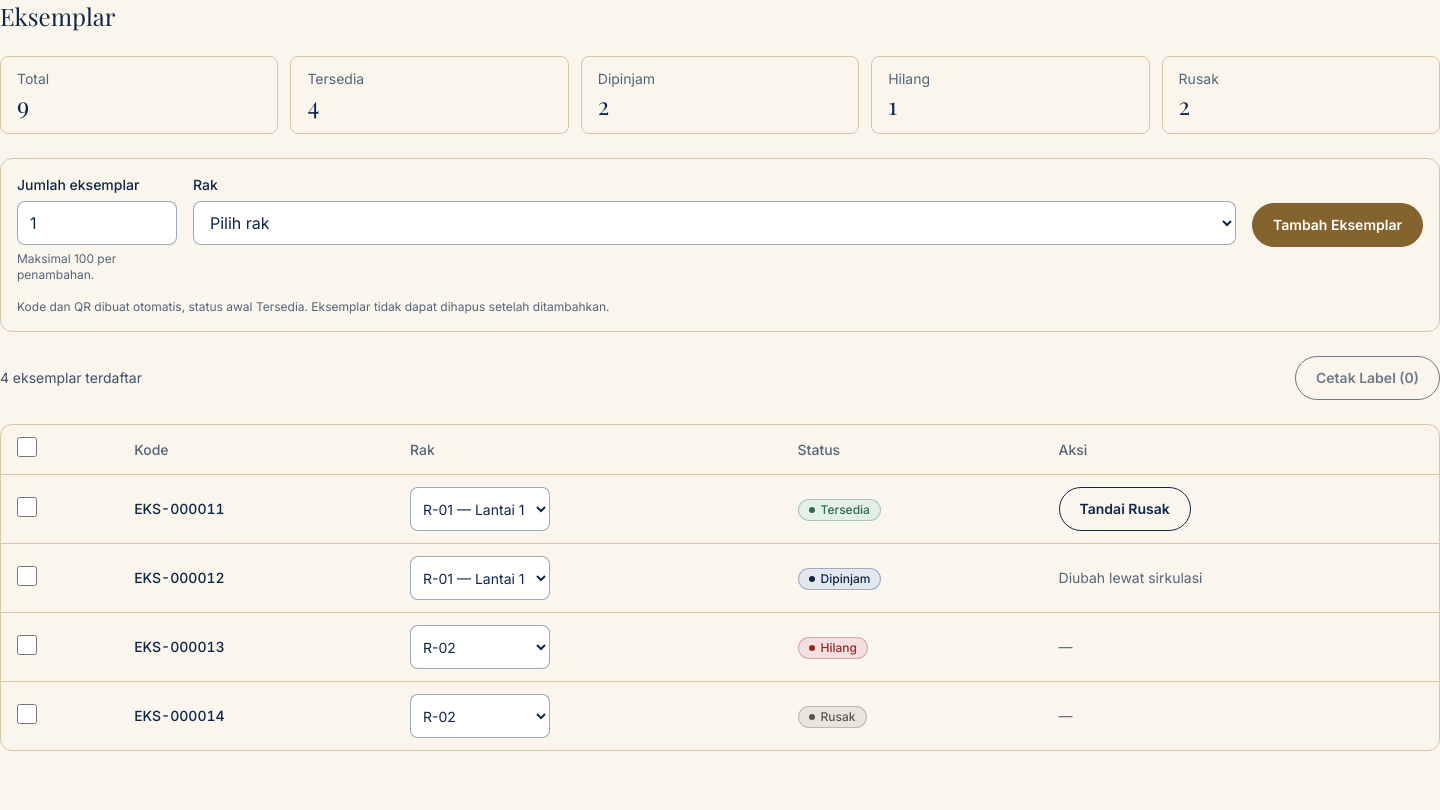
Test: Eksemplar per judul (FR-BKU-04..09, K-02, OQ-20, OQ-21) › FR_BKU_08_penolakan_backend_untuk_eksemplar_yang_berubah_pesan_apa_adanya
The image size is (1440, 810).
Click the button with aria-label "Tandai Rusak EKS-000011": (1125, 509) [1058,487,1191,531]
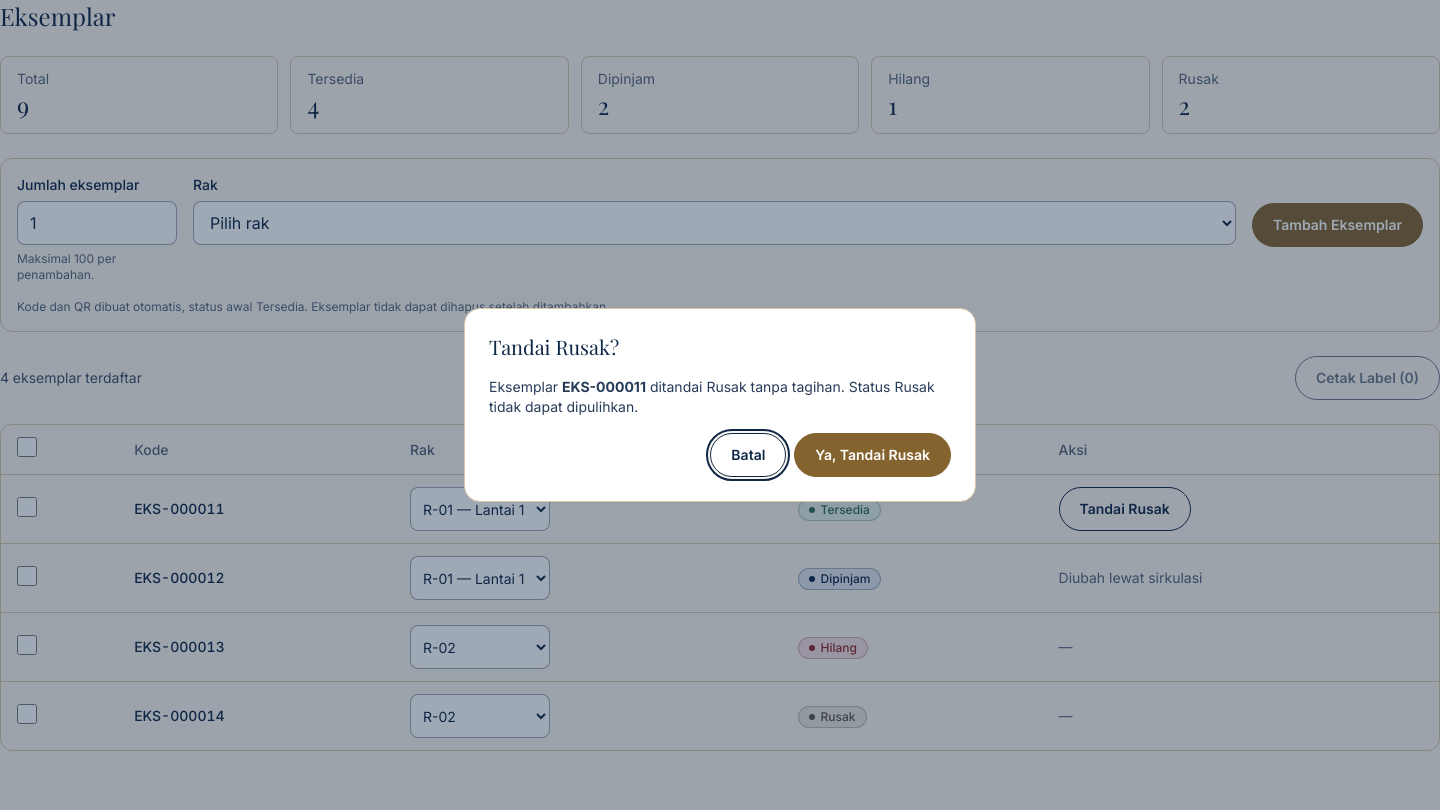
Click the button "Ya, Tandai Rusak": (873, 455) [794,433,951,477]
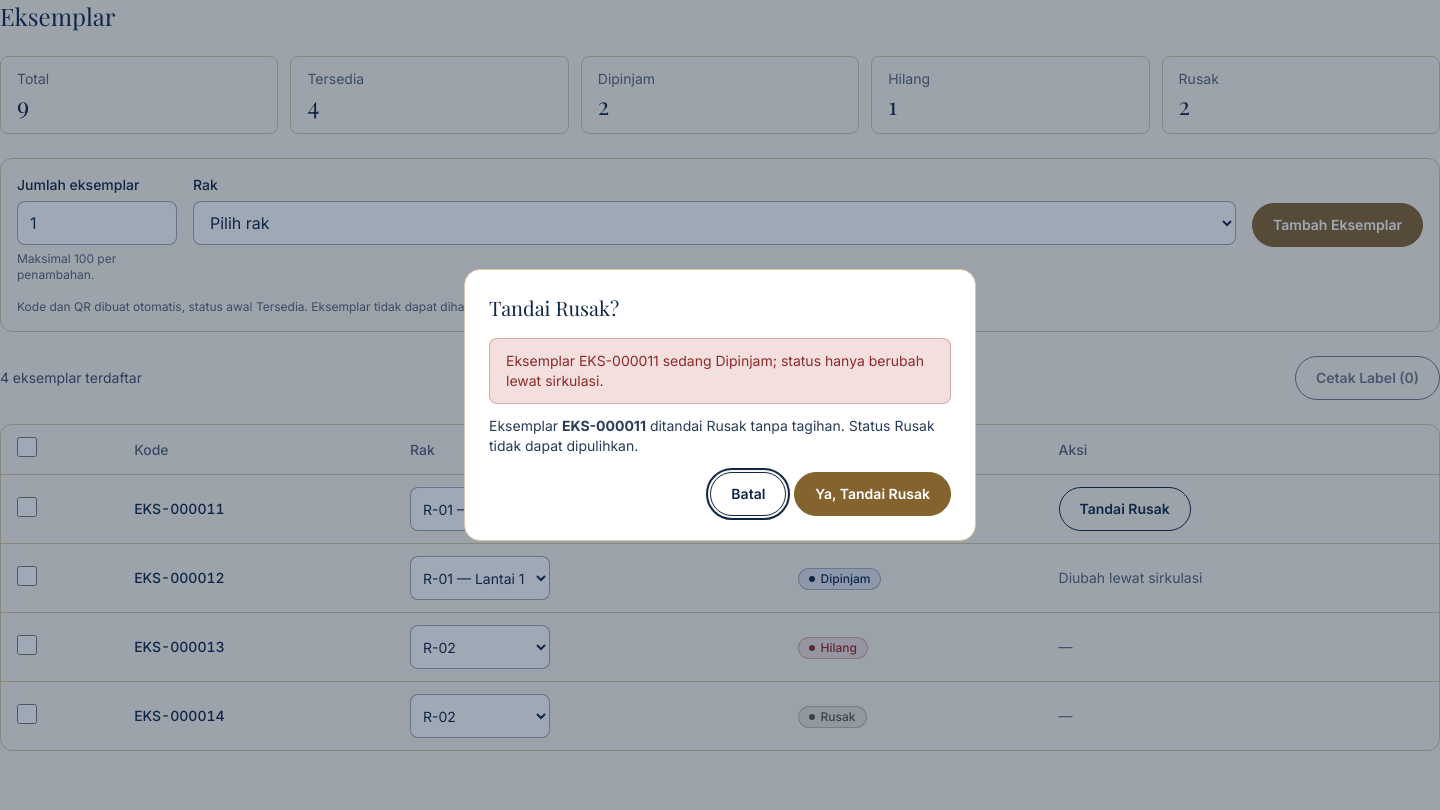
Expected: the message reads "Eksemplar EKS-000011 sedang Dipinjam; status hanya berubah lewat sirkulasi.", [506,352,924,389]
